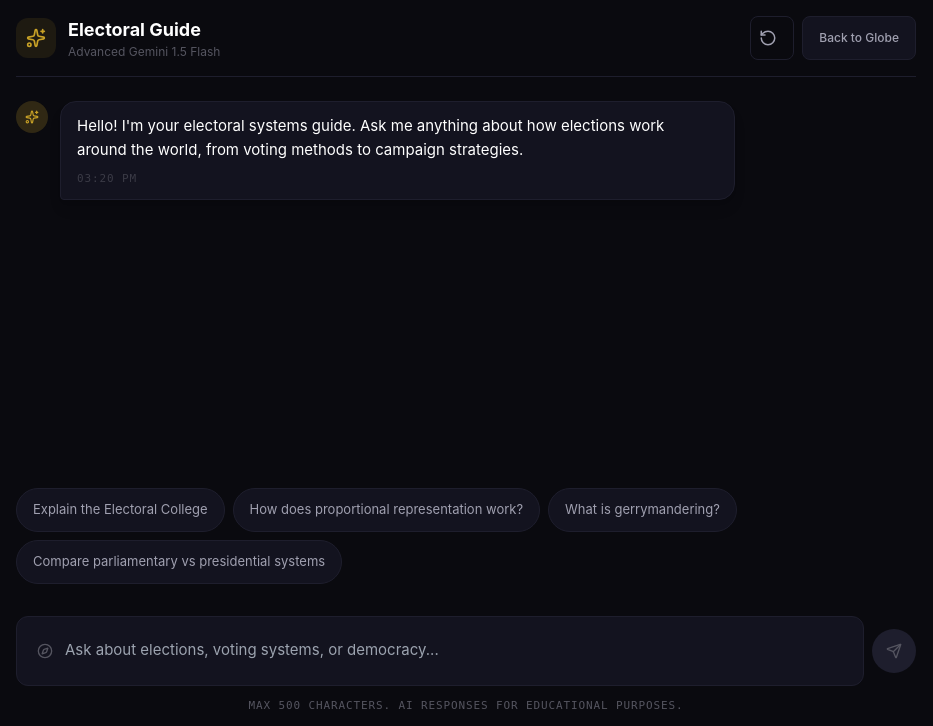
Test: AIAssistant Component › allows typing and sending a message
Type "What is democracy?" into the field with placeholder "Ask about elections, voting systems, or democracy..." at (454, 650), box [65,628,843,672]
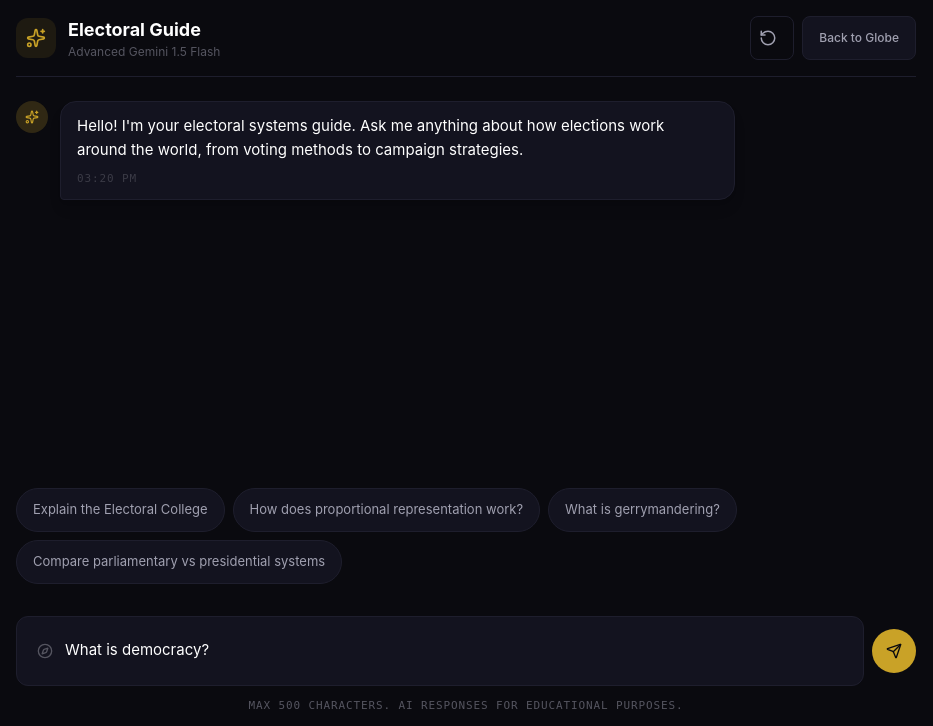
Click the button named "Send message" at (894, 650), box [872,628,916,672]
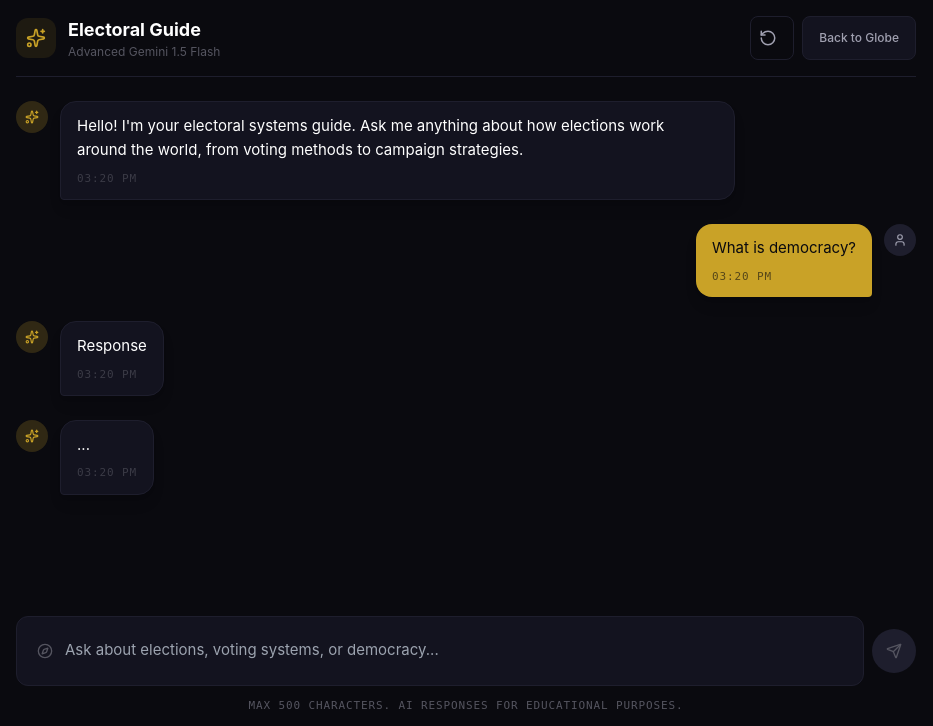
Now the text "What is democracy?" is shown, box [712,236,856,261]
